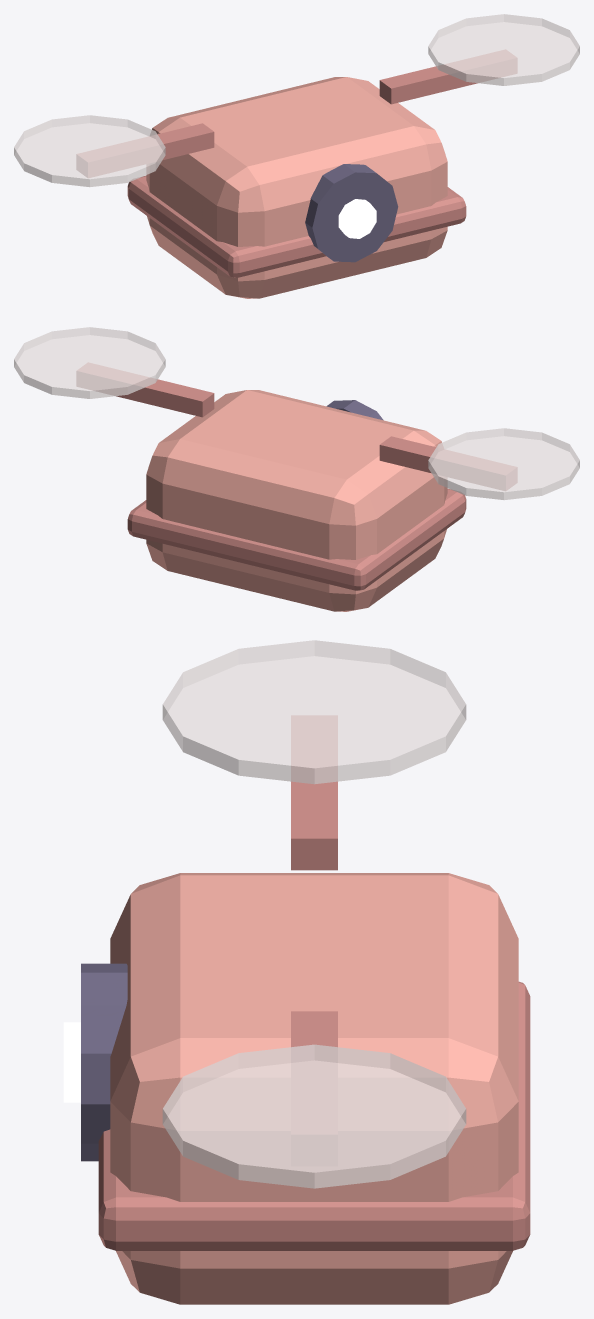
File: drone.glb
The picture shows the model from 3 angles, top to bottom: view 1: azimuth 30°, elevation 25°; view 2: azimuth 150°, elevation 25°; view 3: azimuth 270°, elevation 25°; orthographic projection. The views are drawn at different scales.
Visible parts, largest first — view 1: Body, Rotors, Arms, Band, Eye, Pupil; view 2: Body, Rotors, Band, Arms, Eye; view 3: Body, Rotors, Band, Arms, Eye, Pupil.
Boxes of the visible parts, x1=… form: Body: x1=146, y1=77, x2=447, y2=298; Rotors: x1=14, y1=14, x2=579, y2=187; Arms: x1=77, y1=50, x2=516, y2=177; Band: x1=127, y1=175, x2=466, y2=277; Eye: x1=305, y1=164, x2=398, y2=262; Pupil: x1=338, y1=199, x2=376, y2=238; Body: x1=146, y1=390, x2=447, y2=611; Rotors: x1=14, y1=327, x2=579, y2=500; Band: x1=127, y1=488, x2=466, y2=590; Arms: x1=77, y1=363, x2=516, y2=490; Eye: x1=326, y1=400, x2=383, y2=420; Body: x1=110, y1=873, x2=518, y2=1304; Rotors: x1=162, y1=640, x2=466, y2=1188; Band: x1=98, y1=981, x2=530, y2=1250; Arms: x1=291, y1=716, x2=337, y2=1165; Eye: x1=81, y1=963, x2=127, y2=1161; Pupil: x1=63, y1=1022, x2=80, y2=1102.
Bounding box in the file's own units: 2.16 × 0.595 × 0.8.
